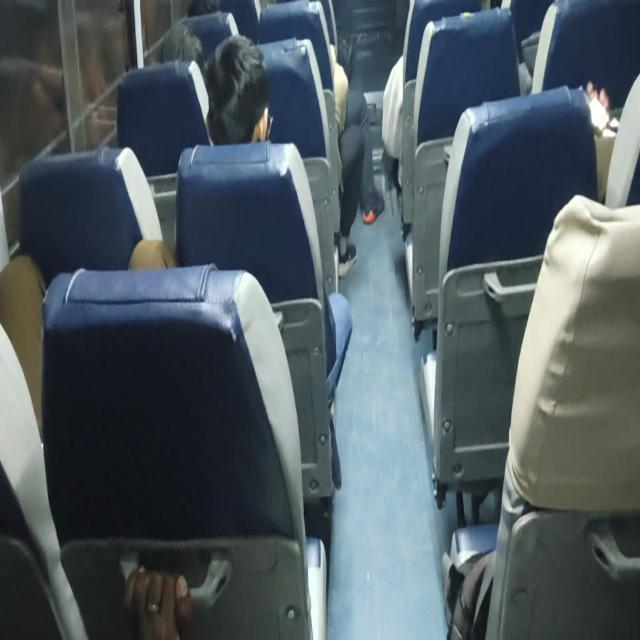person: (215, 52, 273, 143), (152, 19, 210, 62)
